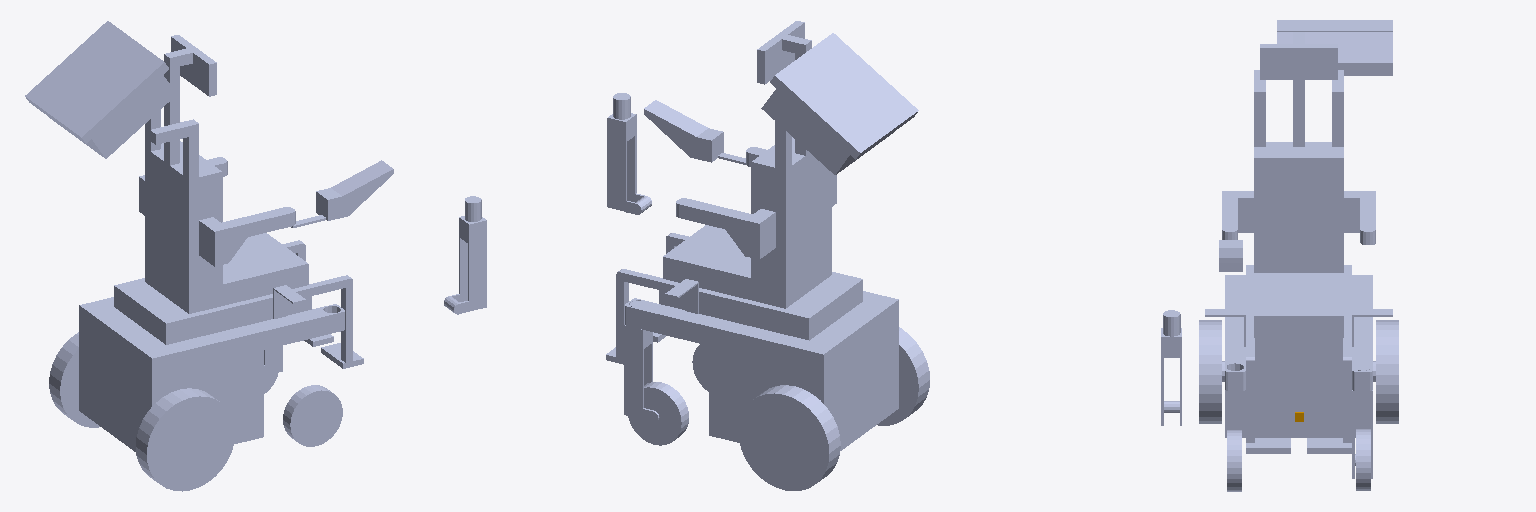
URDF robot description (wheele):
<?xml version="1.0" encoding="utf-8"?>
<!-- This URDF was automatically created by SolidWorks to URDF Exporter! Originally created by [author] ([email redacted]) 
     Commit Version: 1.6.0-4-g7f85cfe  Build Version: 1.6.7995.38578
     For more information, please see http://wiki.ros.org/sw_urdf_exporter -->
<robot
  name="wheele">
  <link
    name="base_link">
    <inertial>
      <origin
        xyz="-0.0527414453514239 -1.08270102171606E-06 0.207668676561577"
        rpy="0 0 0" />
      <mass
        value="91.1648574707324" />
      <inertia
        ixx="3.16732019149984"
        ixy="4.74759163822853E-05"
        ixz="-0.32026788285614"
        iyy="3.23556377175086"
        iyz="1.49370499763038E-05"
        izz="3.88981086562858" />
    </inertial>
    <visual>
      <origin
        xyz="0 0 0"
        rpy="0 0 0" />
      <geometry>
        <mesh
          filename="package://wheele_description/meshes/base_link.STL" />
      </geometry>
      <material
        name="">
        <color
          rgba="0.792156862745098 0.819607843137255 0.933333333333333 1" />
      </material>
    </visual>
    <collision>
      <origin
        xyz="0 0 0"
        rpy="0 0 0" />
      <geometry>
        <mesh
          filename="package://wheele_description/meshes/base_link.STL" />
      </geometry>
    </collision>
  </link>
  <link
    name="wheel_back_left">
    <inertial>
      <origin
        xyz="0.000123919025762947 -0.0375 -0.00194200173946403"
        rpy="1.570796 0 0" />
      <mass
        value="6.60646736275211" />
      <inertia
        ixx="0.0537442322482938"
        ixy="2.16892957827706E-19"
        ixz="-9.1019815591947E-05"
        iyy="0.102710694072585"
        iyz="8.57940734504454E-20"
        izz="0.0551600249768718" />
    </inertial>
    <visual>
      <origin
        xyz="0.000123919025762947 -0.0375 -0.00194200173946403"
        rpy="1.570796 0 0" />
      <geometry>
        <cylinder length="0.075" radius="0.1725" />
      </geometry>
      <material
        name="">
        <color
          rgba="0.792156862745098 0.819607843137255 0.933333333333333 1" />
      </material>
    </visual>
    <collision>
      <origin
        xyz="0.000123919025762947 -0.0375 -0.00194200173946403"
        rpy="1.570796 0 0" />
      <geometry>
        <cylinder length="0.075" radius="0.1725" />
      </geometry>
    </collision>
  </link>
  <joint
    name="joint_wheel_back_left"
    type="continuous">
    <origin
      xyz="-0.189 0.33 0.0885"
      rpy="0 0 0" />
    <parent
      link="base_link" />
    <child
      link="wheel_back_left" />
    <axis
      xyz="0 1 0" />
    <limit
      effort="30"
      velocity="30" />
  </joint>
  <link
    name="wheel_back_right">
    <inertial>
      <origin
        xyz="-8.2629885896357E-06 0.0375 -0.00194593381286387"
        rpy="1.570796 0 0" />
      <mass
        value="6.60646736275211" />
      <inertia
        ixx="0.0537384278699751"
        ixy="-2.83252785110274E-19"
        ixz="5.75494615143155E-06"
        iyy="0.102710694072585"
        iyz="-5.47735900067466E-22"
        izz="0.0551658293551905" />
    </inertial>
    <visual>
      <origin
        xyz="-8.2629885896357E-06 0.0375 -0.00194593381286387"
        rpy="1.570796 0 0" />
      <geometry>
        <cylinder length="0.075" radius="0.1725" />
      </geometry>
      <material
        name="">
        <color
          rgba="0.792156862745098 0.819607843137255 0.933333333333333 1" />
      </material>
    </visual>
    <collision>
      <origin
        xyz="-8.2629885896357E-06 0.0375 -0.00194593381286387"
        rpy="1.570796 0 0" />
      <geometry>
        <cylinder length="0.075" radius="0.1725" />
      </geometry>
    </collision>
  </link>
  <joint
    name="joint_wheel_back_right"
    type="continuous">
    <origin
      xyz="-0.189 -0.33 0.0885"
      rpy="0 0 0" />
    <parent
      link="base_link" />
    <child
      link="wheel_back_right" />
    <axis
      xyz="0 1 0" />
    <limit
      effort="30"
      velocity="30" />
  </joint>
  <link
    name="front_right">
    <inertial>
      <origin
        xyz="-0.00796967411895133 1.34484746663888E-05 -0.169078862100503"
        rpy="0 0 0" />
      <mass
        value="0.912192812599195" />
      <inertia
        ixx="0.0138058169636317"
        ixy="5.46192947538833E-07"
        ixz="-0.00150025951095099"
        iyy="0.0140839705934447"
        iyz="2.76870935230375E-06"
        izz="0.00126687371083358" />
    </inertial>
    <visual>
      <origin
        xyz="0 0 0"
        rpy="0 0 0" />
      <geometry>
        <mesh
          filename="package://wheele_description/meshes/front_right.STL" />
      </geometry>
      <material
        name="">
        <color
          rgba="0.792156862745098 0.819607843137255 0.933333333333333 1" />
      </material>
    </visual>
    <collision>
      <origin
        xyz="0 0 0"
        rpy="0 0 0" />
      <geometry>
        <mesh
          filename="package://wheele_description/meshes/front_right.STL" />
      </geometry>
    </collision>
  </link>
  <joint
    name="jont_front_right"
    type="continuous">
    <origin
      xyz="0.42825 -0.21075 0.394"
      rpy="0 0 0" />
    <parent
      link="base_link" />
    <child
      link="front_right" />
    <axis
      xyz="0 0 -1" />
  </joint>
  <link
    name="wheel_front_right">
    <inertial>
      <origin
        xyz="-0.000134044498266039 0.0325 -0.00152009362232607"
        rpy="1.570796 0 0" />
      <mass
        value="1.54915886155044" />
      <inertia
        ixx="0.00448990415075851"
        ixy="-2.74052534042467E-18"
        ixz="1.41226640854449E-05"
        iyy="0.00849384204724026"
        iyz="2.18087529975426E-19"
        izz="0.00464942075546111" />
    </inertial>
    <visual>
      <origin
        xyz="-0.000134044498266039 0.0325 -0.00152009362232607"
        rpy="1.570796 0 0" />
      <geometry>
        <cylinder length="0.05" radius="0.1025" />
      </geometry>
      <material
        name="">
        <color
          rgba="0.792156862745098 0.819607843137255 0.933333333333333 1" />
      </material>
    </visual>
    <collision>
      <origin
        xyz="-0.000134044498266039 0.0325 -0.00152009362232607"
        rpy="1.570796 0 0" />
      <geometry>
        <cylinder length="0.05" radius="0.1025" />
      </geometry>
    </collision>
  </link>
  <joint
    name="joint_wheel_front_right"
    type="continuous">
    <origin
      xyz="-0.075 -0.035 -0.3755"
      rpy="0 0 0" />
    <parent
      link="front_right" />
    <child
      link="wheel_front_right" />
    <axis
      xyz="0 -1 0" />
  </joint>
  <link
    name="front_left">
    <inertial>
      <origin
        xyz="-0.00796967411880023 1.34484745151486E-05 -0.169078862100503"
        rpy="0 0 0" />
      <mass
        value="0.912192812599195" />
      <inertia
        ixx="0.0138058169636317"
        ixy="5.46192947538824E-07"
        ixz="-0.00150025951095099"
        iyy="0.0140839705934447"
        iyz="2.76870935230368E-06"
        izz="0.00126687371083358" />
    </inertial>
    <visual>
      <origin
        xyz="0 0 0"
        rpy="0 0 0" />
      <geometry>
        <mesh
          filename="package://wheele_description/meshes/front_left.STL" />
      </geometry>
      <material
        name="">
        <color
          rgba="0.792156862745098 0.819607843137255 0.933333333333333 1" />
      </material>
    </visual>
    <collision>
      <origin
        xyz="0 0 0"
        rpy="0 0 0" />
      <geometry>
        <mesh
          filename="package://wheele_description/meshes/front_left.STL" />
      </geometry>
    </collision>
  </link>
  <joint
    name="joint_front_left"
    type="continuous">
    <origin
      xyz="0.42825 0.21125 0.394"
      rpy="0 0 0" />
    <parent
      link="base_link" />
    <child
      link="front_left" />
    <axis
      xyz="0 0 -1" />
  </joint>
  <link
    name="wheel_front_left">
    <inertial>
      <origin
        xyz="-0.00106531226090795 -0.0325 -0.00109259431396592"
        rpy="1.570796 0 0" />
      <mass
        value="1.54915886155044" />
      <inertia
        ixx="0.00456756149249647"
        ixy="-1.69951829350563E-18"
        ixz="8.09717382753578E-05"
        iyy="0.00849384204724026"
        iyz="-5.55422993037582E-19"
        izz="0.00457176341372314" />
    </inertial>
    <visual>
      <origin
        xyz="-0.00106531226090795 -0.0325 -0.00109259431396592"
        rpy="1.570796 0 0" />
      <geometry>
        <cylinder length="0.05" radius="0.1025" />
      </geometry>
      <material
        name="">
        <color
          rgba="0.792156862745098 0.819607843137255 0.933333333333333 1" />
      </material>
    </visual>
    <collision>
      <origin
        xyz="-0.00106531226090795 -0.0325 -0.00109259431396592"
        rpy="1.570796 0 0" />
      <geometry>
        <cylinder length="0.05" radius="0.1025" />
      </geometry>
    </collision>
  </link>
  <joint
    name="joint_wheel_front_left"
    type="continuous">
    <origin
      xyz="-0.075 0.035 -0.3755"
      rpy="0 0 0" />
    <parent
      link="front_left" />
    <child
      link="wheel_front_left" />
    <axis
      xyz="0 -1 0" />
  </joint>


  // ---- GAZEBO ----

  <link name="dummy">
  </link>
  <joint name="dummy_joint" type="fixed">
     <parent link="dummy"/>
     <child link="base_link"/>
  </joint>

  <joint name="camera_joint" type="fixed">
    <parent link="base_link"/>
    <child link="camera_link"/>
    <origin xyz="0.145 0 0.08" rpy="0 0 0"/>
  </joint>

  <link name="camera_link">
    <visual>
      <geometry>
        <box size="0.010 0.03 0.03"/>
      </geometry>
    </visual>
  </link>

  <gazebo reference="camera_link">
    <sensor name="camera" type="depth">
      <update_rate>20</update_rate>
      <pose> 0 0 0 0 0 0 </pose>
      <visualize>true</visualize>
      <camera>
        <horizontal_fov>1.047198</horizontal_fov>
        <image>
          <width>640</width>
          <height>480</height>
          <format>R8G8B8</format>
        </image>
        <clip>
          <near>0.05</near>
          <far>3</far>
        </clip>
      </camera>

      <plugin name="camera_plugin" filename="libgazebo_ros_openni_kinect.so">
        <baseline>0.2</baseline>
        <alwaysOn>true</alwaysOn>
        <!-- Keep this zero, update_rate in the parent <sensor> tag
          will control the frame rate. -->
        <updateRate>0.0</updateRate>
        <cameraName>camera_ir</cameraName>
        <imageTopicName>/camera/color/image_raw</imageTopicName>
        <cameraInfoTopicName>/camera/color/camera_info</cameraInfoTopicName>
        <depthImageTopicName>/camera/depth/image_raw</depthImageTopicName>
        <depthImageCameraInfoTopicName>/camera/depth/camera_info</depthImageCameraInfoTopicName>
        <pointCloudTopicName>/camera/depth/points</pointCloudTopicName>
        <frameName>camera_link</frameName>
        <pointCloudCutoff>0.5</pointCloudCutoff>
        <pointCloudCutoffMax>3.0</pointCloudCutoffMax>
        <distortionK1>0</distortionK1>
        <distortionK2>0</distortionK2>
        <distortionK3>0</distortionK3>
        <distortionT1>0</distortionT1>
        <distortionT2>0</distortionT2>
        <CxPrime>0</CxPrime>
        <Cx>0</Cx>
        <Cy>0</Cy>
        <focalLength>0</focalLength>
        <hackBaseline>0</hackBaseline>
      </plugin>
    </sensor>
  </gazebo> 

  <gazebo> 
    <plugin name="odom_plugin" filename="libgazebo_ros_p3d.so">
      <alwaysOn>true</alwaysOn>
      <updateRate>50.0</updateRate>
      <bodyName>base_link</bodyName>
      <topicName>/odom</topicName>
      <gaussianNoise>0.0</gaussianNoise>
      <frameName>map</frameName>
    </plugin>
  </gazebo> 

  <transmission name="tran_wheel_back_right">
    <type>transmission_interface/SimpleTransmission</type>
    <joint name="joint_wheel_back_right">
      <hardwareInterface>hardware_interface/VelocityJointInterface</hardwareInterface>
    </joint>
    <actuator name="motor_wheel_back_right">
      <hardwareInterface>hardware_interface/VelocityJointInterface</hardwareInterface>
      <mechanicalReduction>1</mechanicalReduction>
    </actuator>
  </transmission>

  <transmission name="tran_wheel_back_left">
    <type>transmission_interface/SimpleTransmission</type>
    <joint name="joint_wheel_back_left">
      <hardwareInterface>hardware_interface/VelocityJointInterface</hardwareInterface>
    </joint>
    <actuator name="motor_wheel_back_left">
      <hardwareInterface>hardware_interface/VelocityJointInterface</hardwareInterface>
      <mechanicalReduction>1</mechanicalReduction>
    </actuator>
  </transmission>

  <gazebo>
    <plugin name="gazebo_ros_control" filename="libgazebo_ros_control.so">
      <robotNamespace>/wheele</robotNamespace>
    </plugin>
  </gazebo>

</robot>

--- Render facts (derived) ---
3 views of the same robot in one strip: view 1: azimuth 30°, elevation 25°; view 2: azimuth 150°, elevation 25°; view 3: azimuth 270°, elevation 25° (orthographic).
Robot: wheele — 9 links, 8 joints (6 continuous, 2 fixed); root link dummy; default pose: every joint at zero.
Links seen in each view (by area): view 1: base_link, wheel_back_right, front_right, wheel_front_right, wheel_back_left; view 2: base_link, wheel_back_left, front_right, front_left, wheel_front_left, wheel_back_right, wheel_front_right; view 3: base_link, wheel_back_left, wheel_back_right, front_right, wheel_front_right, wheel_front_left, front_left.
Boxes of the visible links, <box> form: base_link: <box>25,21,393,452</box>; wheel_back_right: <box>136,388,234,491</box>; front_right: <box>444,196,486,314</box>; wheel_front_right: <box>283,385,342,446</box>; wheel_back_left: <box>49,332,99,427</box>; base_link: <box>606,21,918,450</box>; wheel_back_left: <box>738,385,840,490</box>; front_right: <box>607,93,651,214</box>; front_left: <box>624,301,659,422</box>; wheel_front_left: <box>628,382,688,445</box>; wheel_back_right: <box>877,327,929,425</box>; wheel_front_right: <box>692,344,708,391</box>; base_link: <box>1205,20,1392,453</box>; wheel_back_left: <box>1376,320,1398,423</box>; wheel_back_right: <box>1199,320,1221,423</box>; front_right: <box>1161,310,1181,425</box>; wheel_front_right: <box>1227,430,1241,491</box>; wheel_front_left: <box>1356,429,1370,490</box>; front_left: <box>1352,363,1372,478</box>.
Size in the robot's own frame: 1.36 by 0.7865 by 1.48 metres.
Meshes: 3 distinct files referenced, 3 mesh visuals loaded (3 binary STL).
